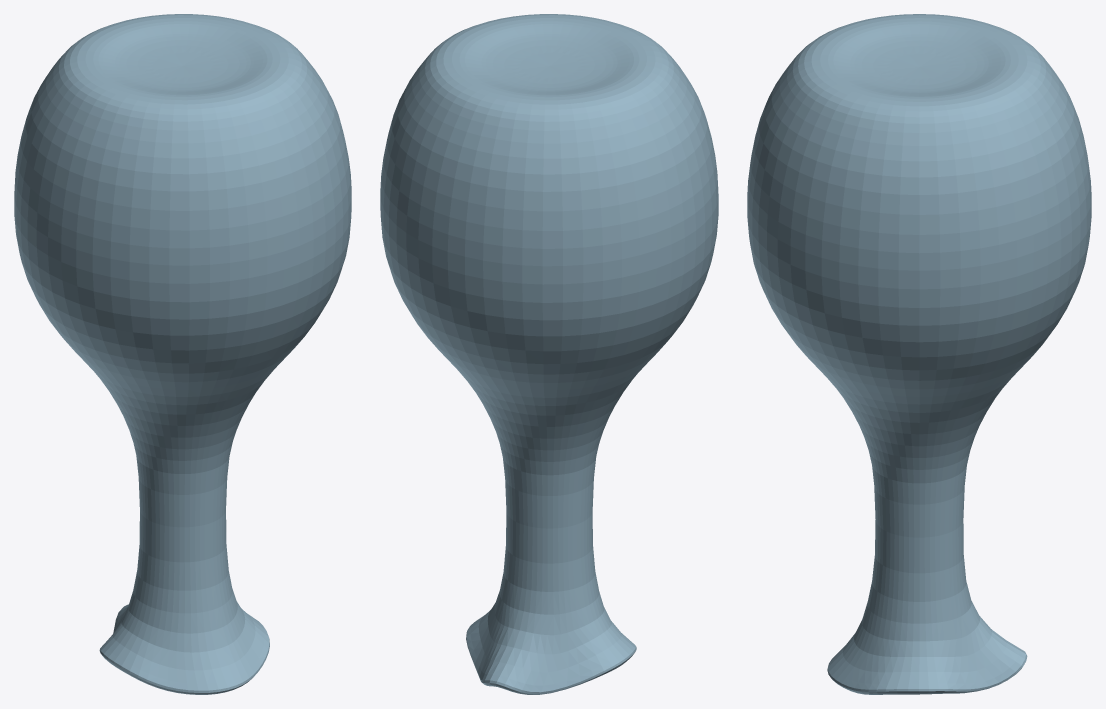
Rendered from flat_vase.gltf.
3 views of the same model, side by side, from view 1: azimuth 30°, elevation 25°; view 2: azimuth 150°, elevation 25°; view 3: azimuth 270°, elevation 25° (orthographic). The views are drawn at different scales.
Visible parts, largest first — view 1: ceramic_vase_01_Cylinder.009; view 2: ceramic_vase_01_Cylinder.009; view 3: ceramic_vase_01_Cylinder.009.
Boxes of the visible parts, bbox=[...] form: ceramic_vase_01_Cylinder.009: bbox=[14, 14, 351, 694]; ceramic_vase_01_Cylinder.009: bbox=[380, 14, 718, 694]; ceramic_vase_01_Cylinder.009: bbox=[747, 14, 1091, 694].
Bounding box in the file's own units: 0.2036 × 0.4003 × 0.2036.
